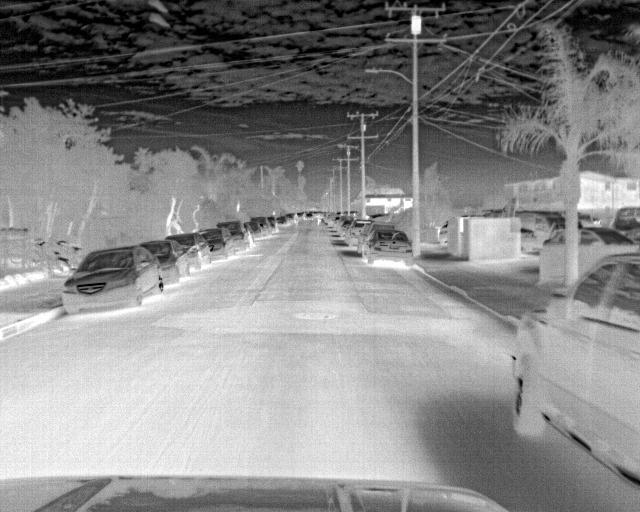car: (507, 248, 639, 494), (59, 245, 167, 316), (139, 239, 187, 286), (514, 209, 563, 253), (361, 229, 417, 266), (165, 235, 213, 268), (577, 225, 633, 248), (195, 227, 232, 260), (211, 221, 249, 250), (609, 206, 639, 242), (347, 218, 380, 248), (251, 216, 272, 235), (340, 218, 356, 238), (246, 221, 263, 239), (267, 214, 279, 233), (275, 213, 290, 227), (302, 211, 314, 221)
